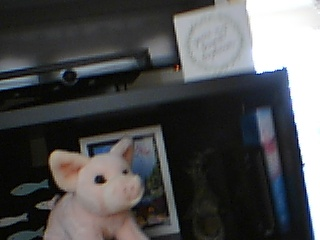piggy: (39, 135, 152, 240)
